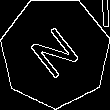N_SE: (24, 20, 86, 84)
